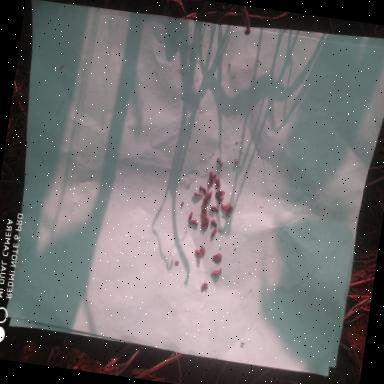pbw: (202, 188, 213, 204), (210, 218, 222, 230), (220, 201, 233, 212), (200, 216, 210, 230), (212, 176, 222, 190), (198, 184, 207, 196), (212, 252, 222, 262), (210, 268, 222, 276), (194, 249, 204, 258), (208, 204, 219, 212), (225, 207, 233, 218), (198, 244, 206, 255), (187, 218, 198, 226), (200, 204, 207, 215), (202, 208, 208, 220), (208, 170, 214, 182), (210, 228, 217, 238), (200, 214, 206, 225), (193, 191, 204, 197), (214, 190, 225, 196), (214, 194, 222, 202), (187, 210, 192, 222), (216, 156, 222, 166), (213, 172, 218, 182), (207, 181, 213, 188), (218, 162, 222, 168)
